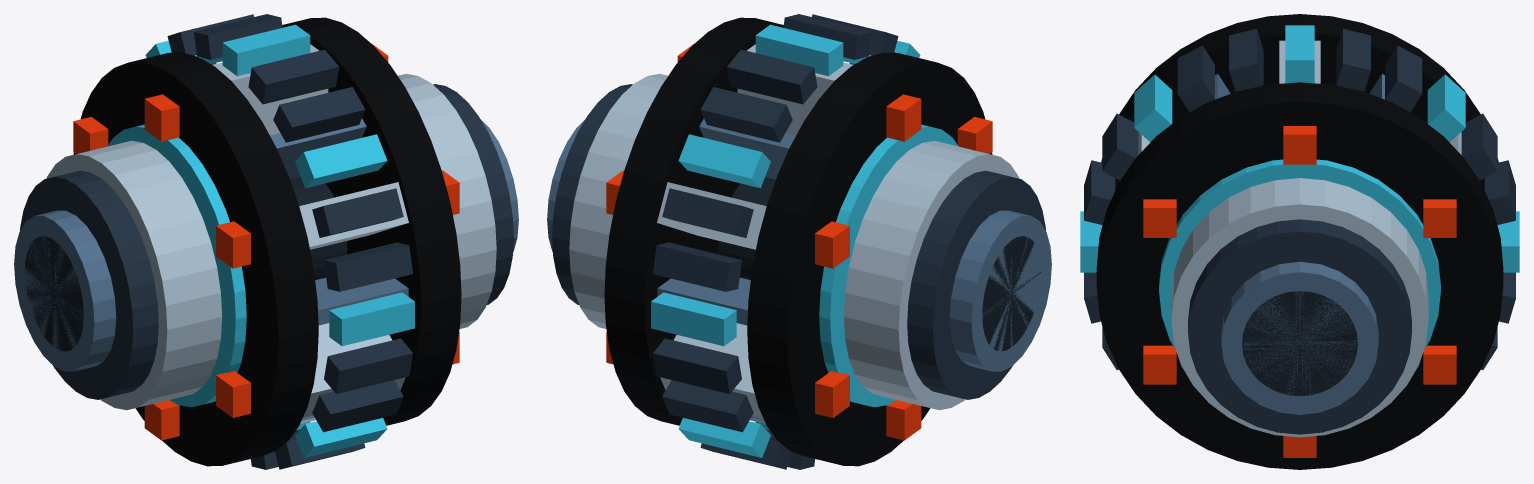
File: HeavyIndustrialRotor.obj
3 views of the same model, side by side, from view 1: azimuth 30°, elevation 25°; view 2: azimuth 150°, elevation 25°; view 3: azimuth 270°, elevation 25° (orthographic).
Parts seen in each view (by area): view 1: SM_HeavyIndustrialRotor; view 2: SM_HeavyIndustrialRotor; view 3: SM_HeavyIndustrialRotor.
Part boxes in pixels (x1,y1,x2,y2): SM_HeavyIndustrialRotor: (14, 14, 518, 469); SM_HeavyIndustrialRotor: (547, 14, 1051, 469); SM_HeavyIndustrialRotor: (1080, 14, 1519, 469).
Bounding box in the file's own units: 116 × 106 × 106.
